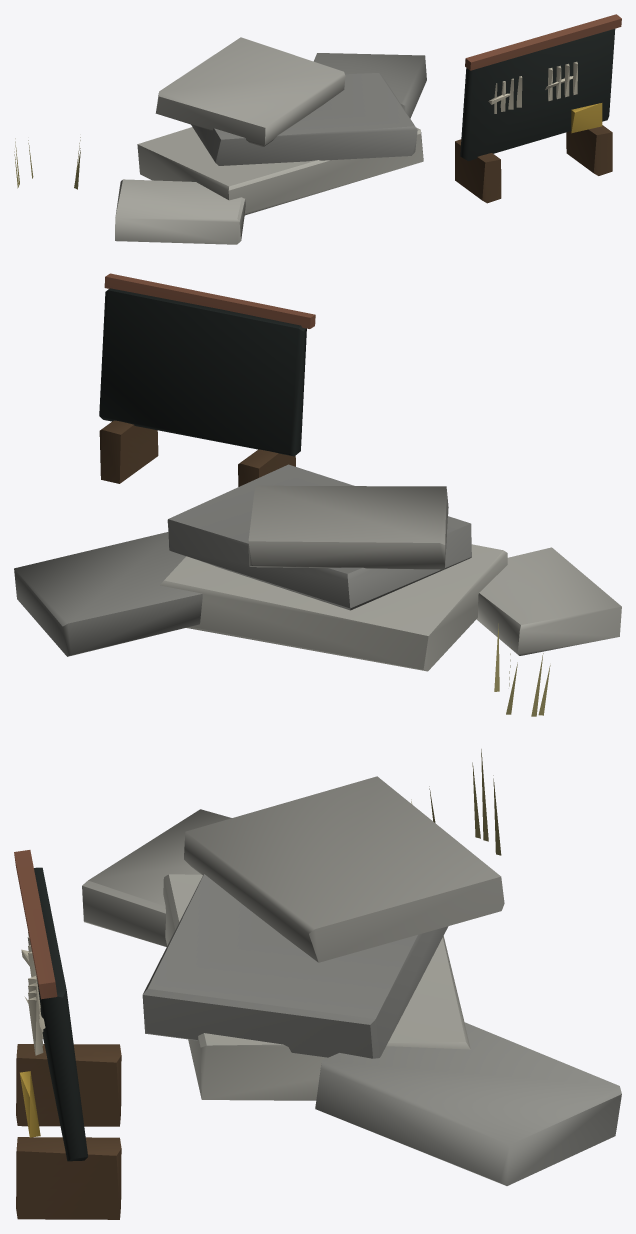
File: stencil_post_c_lod1.glb
The picture shows the model from 3 angles, top to bottom: view 1: azimuth 30°, elevation 25°; view 2: azimuth 150°, elevation 25°; view 3: azimuth 270°, elevation 25°; orthographic projection. The views are drawn at different scales.
Visible parts, largest first — view 1: Surface.001; view 2: Surface.001; view 3: Surface.001.
Part boxes in pixels (x1,y1,x2,y2): Surface.001: [14, 14, 621, 244]; Surface.001: [14, 273, 621, 716]; Surface.001: [14, 749, 621, 1219].
Size of the model in its own units: 5.19 by 1.59 by 3.31.
